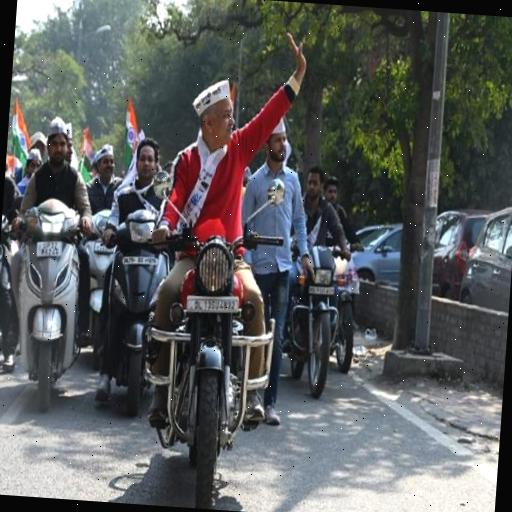no helmet: (142, 64, 282, 491), (4, 112, 103, 406), (95, 126, 180, 410), (282, 160, 332, 403)
